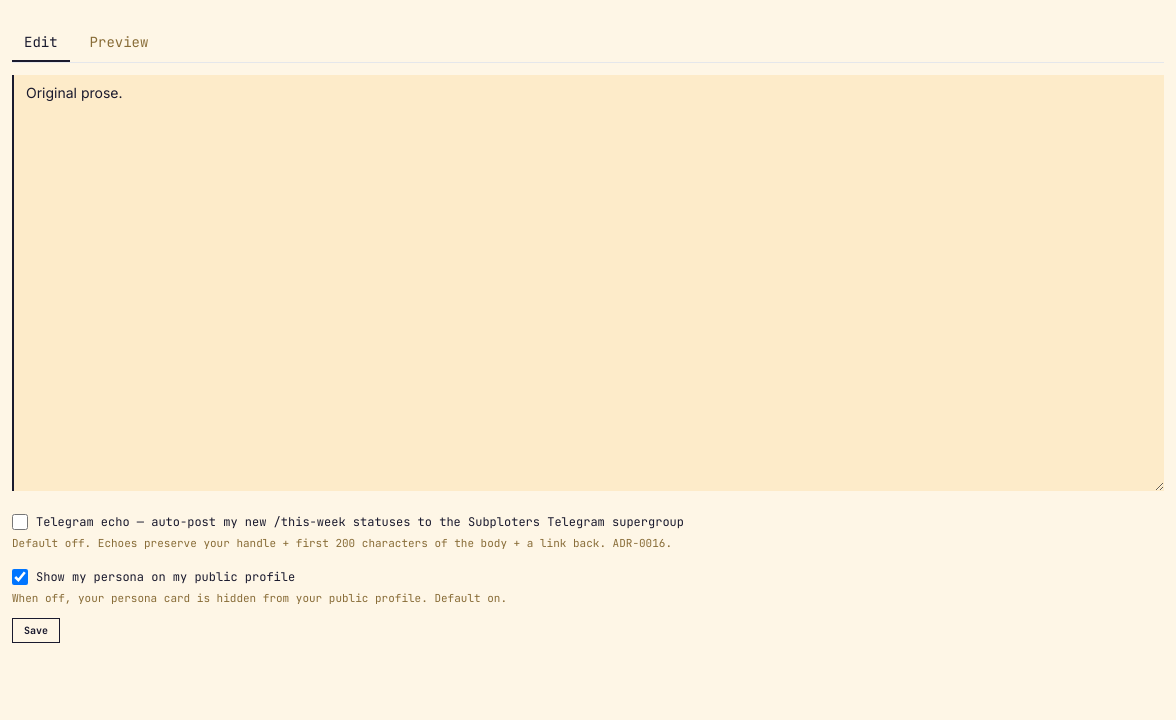
Test: ProfileEditor › Preview tab error paths › renders 'Preview unavailable' when the preview endpoint returns non-2xx
Click the tab "Preview" at coordinates (119, 43), box [78,24,160,62]
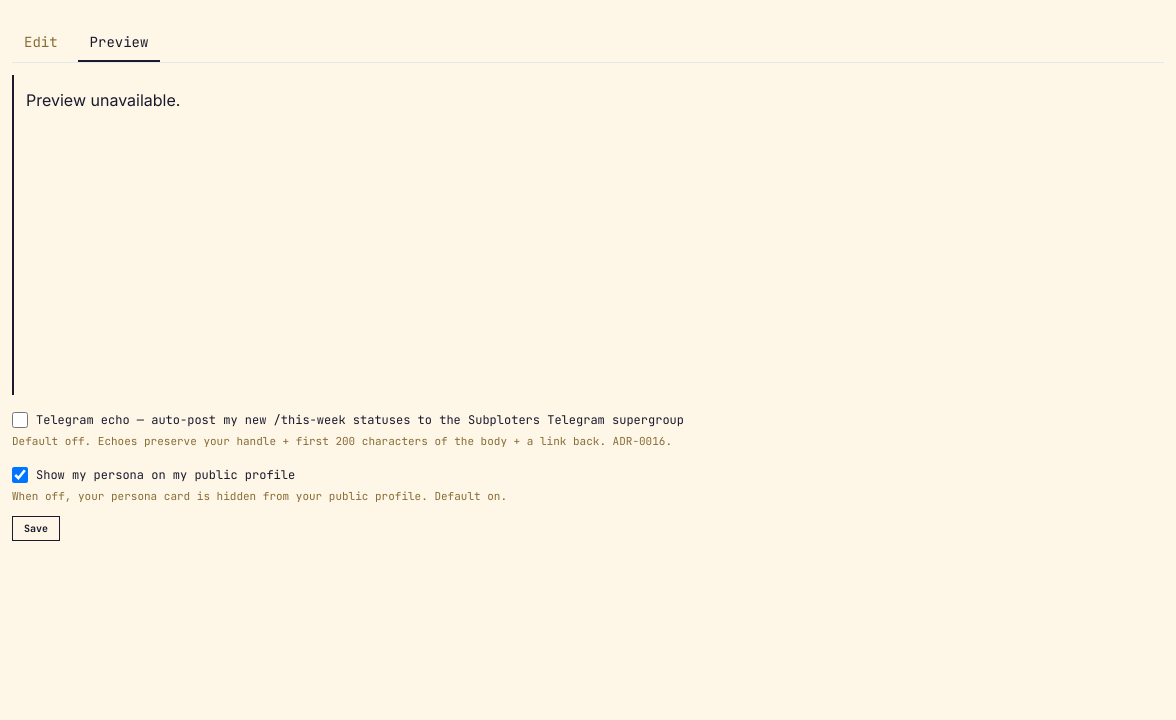
Now the element with test id "safehtml" shows "Preview unavailable", box [26,90,180,110]
